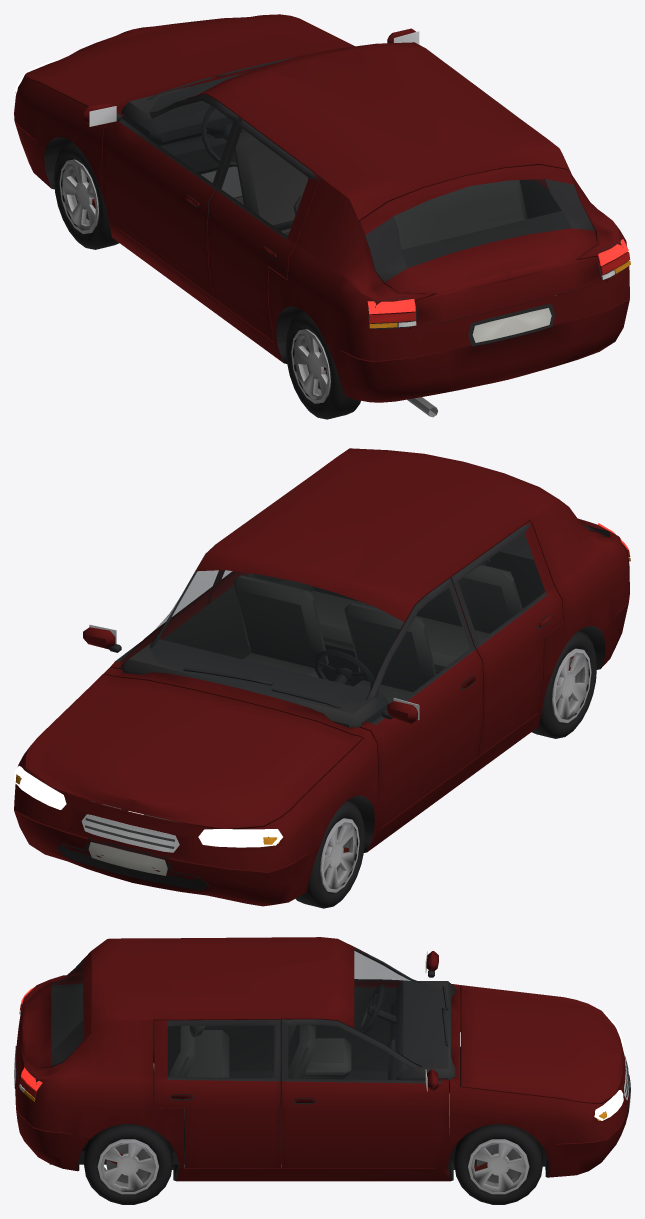
File: hatchback_a.glb
3 views of the same model, one above another, from view 1: azimuth 30°, elevation 25°; view 2: azimuth 150°, elevation 25°; view 3: azimuth 270°, elevation 25° (orthographic). The views are drawn at different scales.
Parts seen in each view (by area): view 1: hatchback_a_body, wheel_rl, wheel_fl, lamp_tail_l; view 2: hatchback_a_body, wheel_fl, wheel_rl, lamp_head_l, lamp_head_r; view 3: hatchback_a_body, wheel_rr, wheel_fr, lamp_head_r.
Boxes of the visible parts, x1,y1,x2,y2 form: hatchback_a_body: [14, 14, 630, 417]; wheel_rl: [285, 311, 360, 419]; wheel_fl: [54, 142, 119, 249]; lamp_tail_l: [367, 299, 415, 314]; hatchback_a_body: [14, 448, 630, 906]; wheel_fl: [295, 800, 365, 908]; wheel_rl: [531, 631, 596, 738]; lamp_head_l: [198, 829, 282, 847]; lamp_head_r: [14, 766, 66, 809]; hatchback_a_body: [14, 937, 630, 1181]; wheel_rr: [84, 1124, 172, 1204]; wheel_fr: [454, 1124, 542, 1204]; lamp_head_r: [594, 1090, 623, 1120].
Size of the model in its own units: 2.2 by 1.44 by 4.4.
